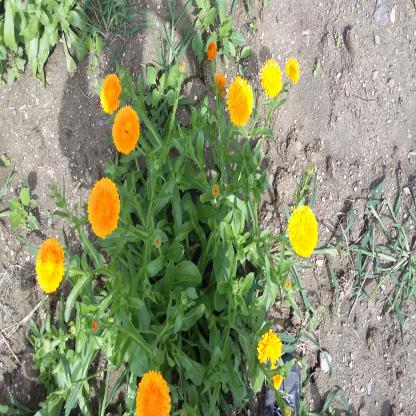marigold: (86, 178, 120, 235), (135, 367, 171, 416), (288, 206, 318, 255), (37, 240, 64, 290), (227, 77, 254, 127), (112, 108, 139, 152), (257, 331, 282, 367), (261, 61, 283, 97), (101, 74, 119, 112), (286, 57, 301, 83)
